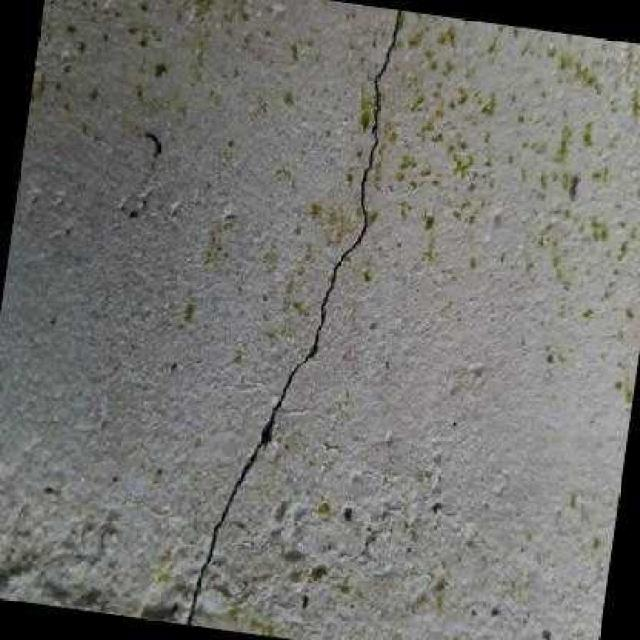D00: (185, 8, 400, 624)
